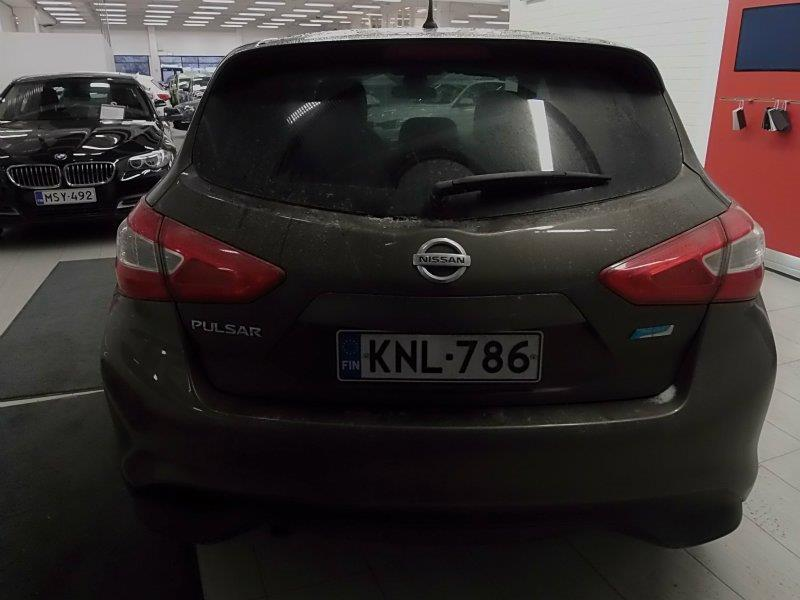license: (335, 328, 541, 385)
